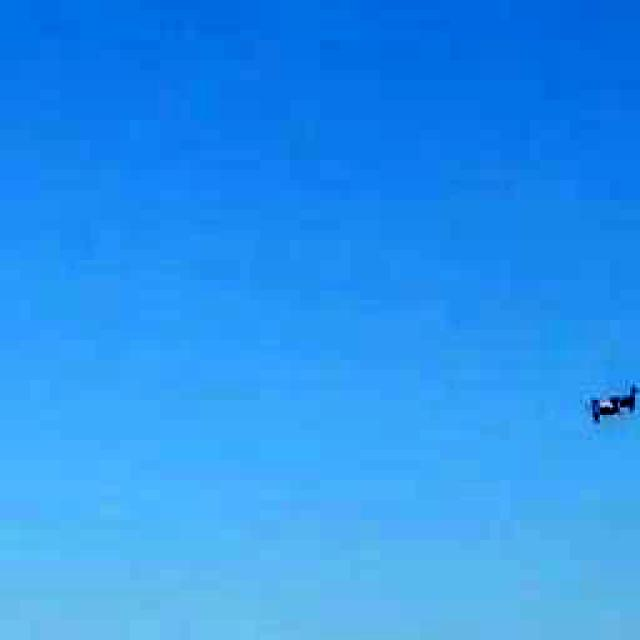bird: (564, 370, 640, 440)
